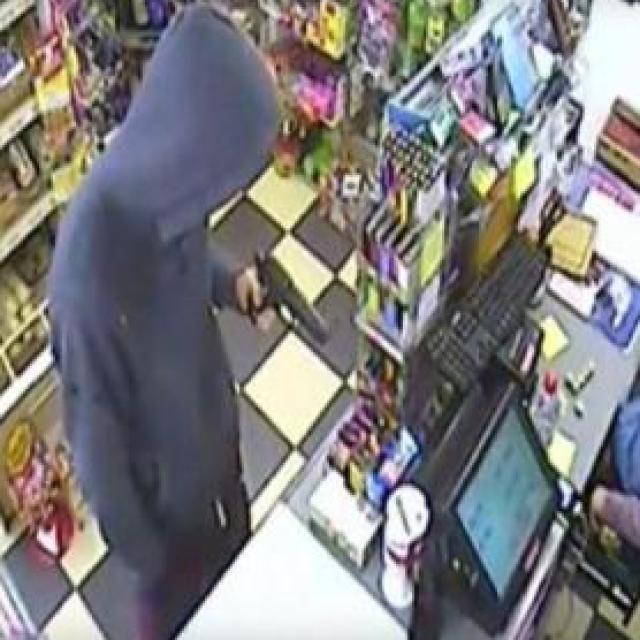pistol: (245, 246, 327, 354)
